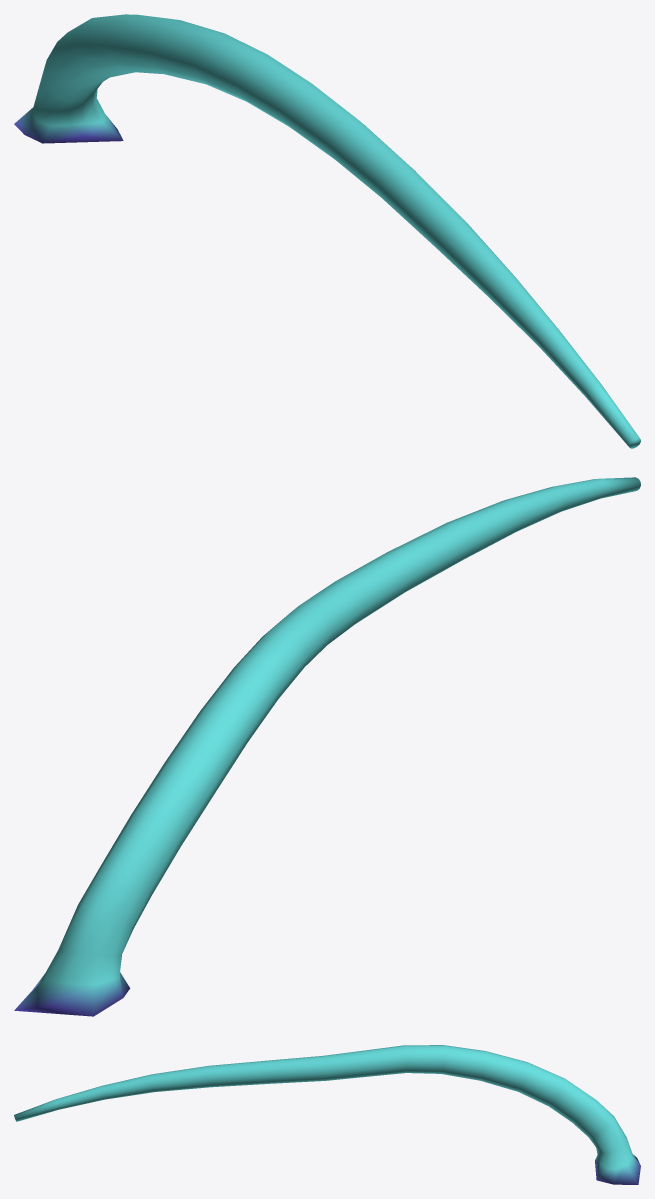
Rendered from SMA.FBX.
The picture shows the model from 3 angles, top to bottom: view 1: azimuth 30°, elevation 25°; view 2: azimuth 150°, elevation 25°; view 3: azimuth 270°, elevation 25°; orthographic projection. The views are drawn at different scales.
Visible parts, largest first — view 1: SMA-Snapshot-Snapshot; view 2: SMA-Snapshot-Snapshot; view 3: SMA-Snapshot-Snapshot.
Part boxes in pixels (bbox=[...]): SMA-Snapshot-Snapshot: bbox=[14, 14, 640, 448]; SMA-Snapshot-Snapshot: bbox=[14, 477, 640, 1016]; SMA-Snapshot-Snapshot: bbox=[14, 1045, 640, 1184].
Bounding box in the file's own units: 8.49 × 19.66 × 89.28.
